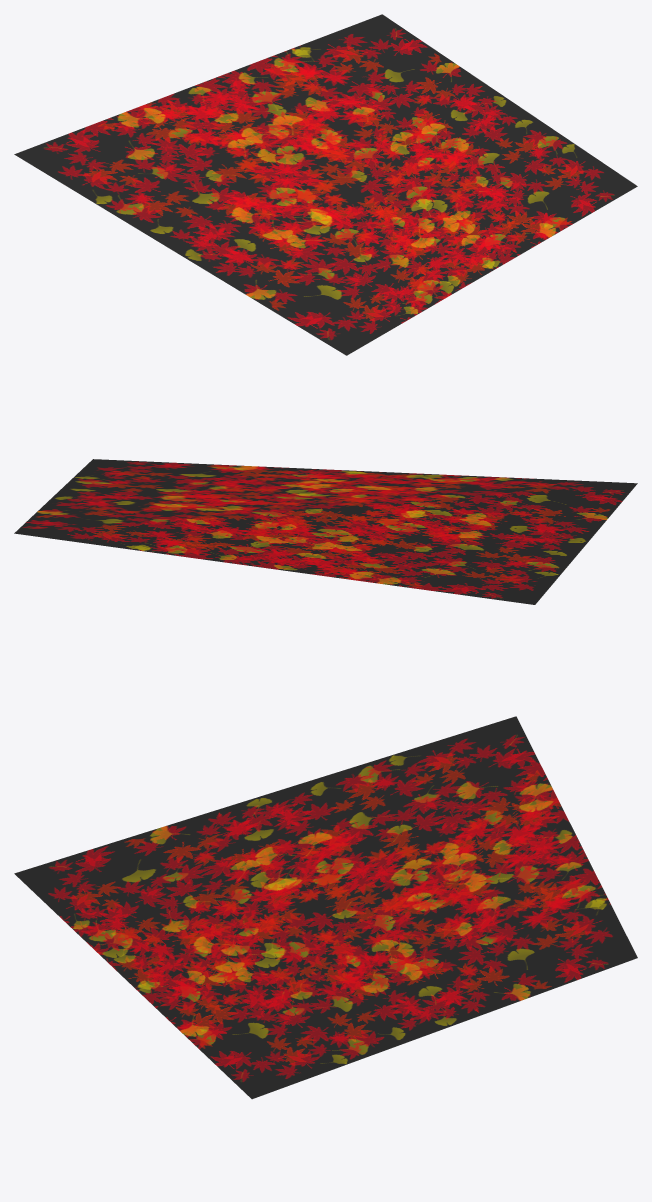
The model's file is CourseAki_CurveFloor_3_32.fbx.
3 views of the same model, one above another, from view 1: azimuth 30°, elevation 25°; view 2: azimuth 150°, elevation 25°; view 3: azimuth 270°, elevation 25° (orthographic). The views are drawn at different scales.
Visible parts, largest first — view 1: polySurface481; view 2: polySurface481; view 3: polySurface481.
Boxes of the visible parts, x1,y1,x2,y2 form: polySurface481: [14, 14, 637, 355]; polySurface481: [14, 459, 637, 604]; polySurface481: [14, 716, 637, 1099].
Size of the model in its own units: 7.16 by 2 by 6.4.
1 material, 1 textured.
